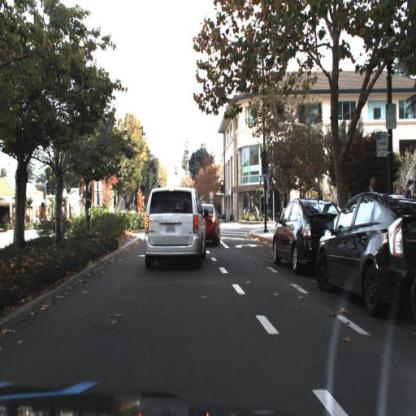car: (317, 188, 416, 320), (272, 195, 343, 279), (142, 185, 210, 269)
trafficLight-Red: (220, 181, 226, 197), (157, 183, 162, 191)
